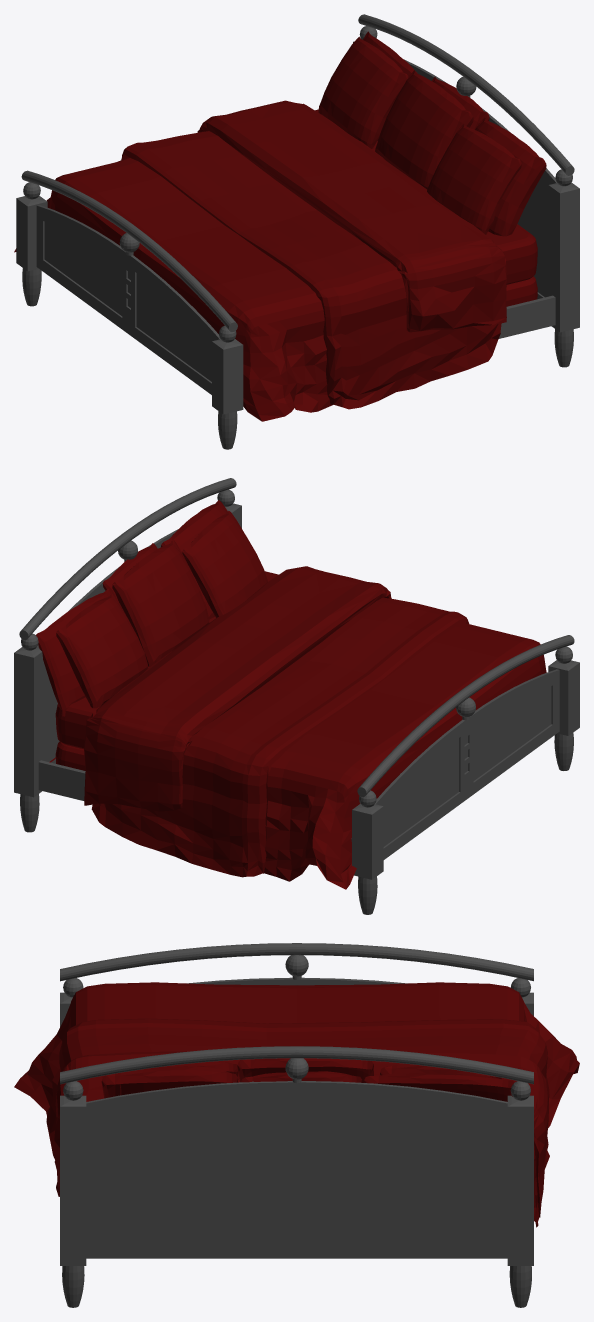
File: Krevet.fbx
3 views of the same model, one above another, from view 1: azimuth 30°, elevation 25°; view 2: azimuth 150°, elevation 25°; view 3: azimuth 270°, elevation 25° (orthographic). The views are drawn at different scales.
Parts seen in each view (by area): view 1: *MODEL_SPACE, WOOD (×13); view 2: *MODEL_SPACE, WOOD (×13); view 3: WOOD (×10), *MODEL_SPACE.
Boxes of the visible parts, bbox=[...] form: *MODEL_SPACE: bbox=[14, 31, 546, 421]; WOOD (×13): bbox=[16, 64, 579, 449]; *MODEL_SPACE: bbox=[36, 500, 546, 889]; WOOD (×13): bbox=[14, 540, 579, 914]; WOOD (×10): bbox=[60, 979, 533, 1307]; *MODEL_SPACE: bbox=[14, 982, 579, 1227].
Bounding box in the file's own units: 80.5 × 48.78 × 96.73.
